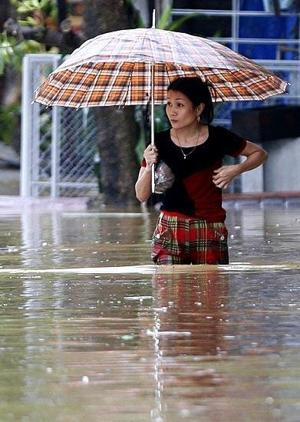person: (135, 75, 268, 265)
